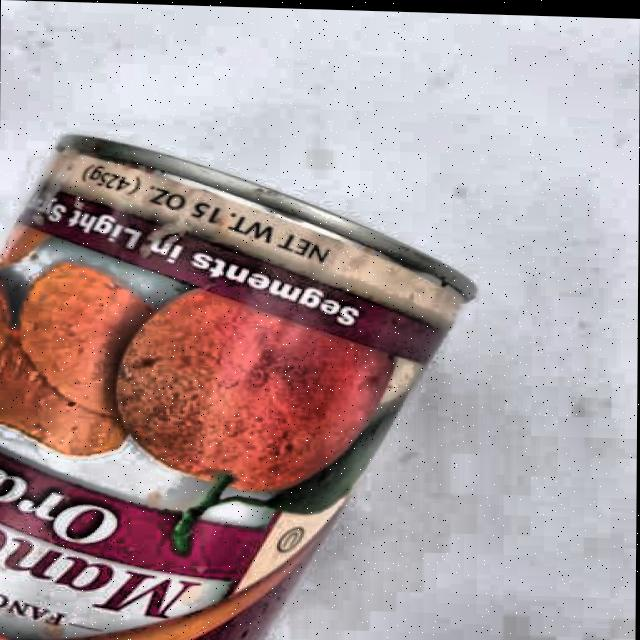metal: (0, 125, 481, 640)
